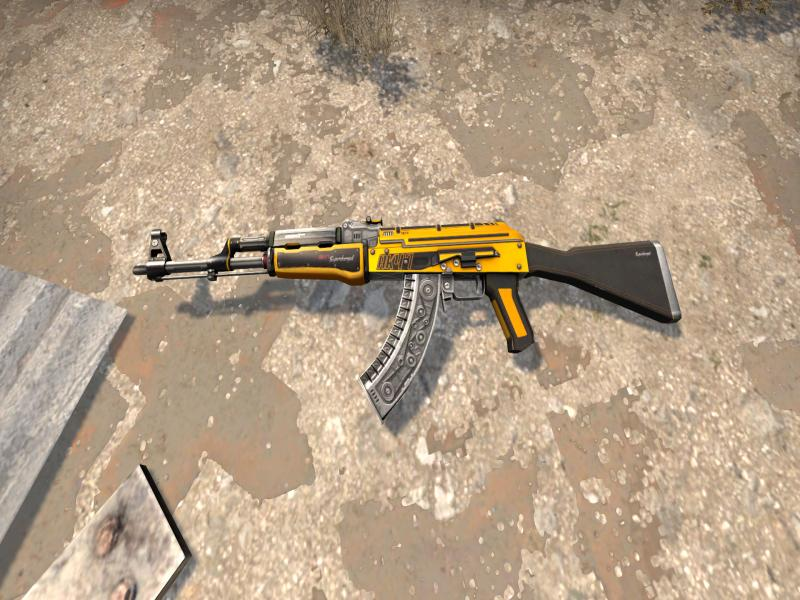AK47: (134, 218, 680, 417)
